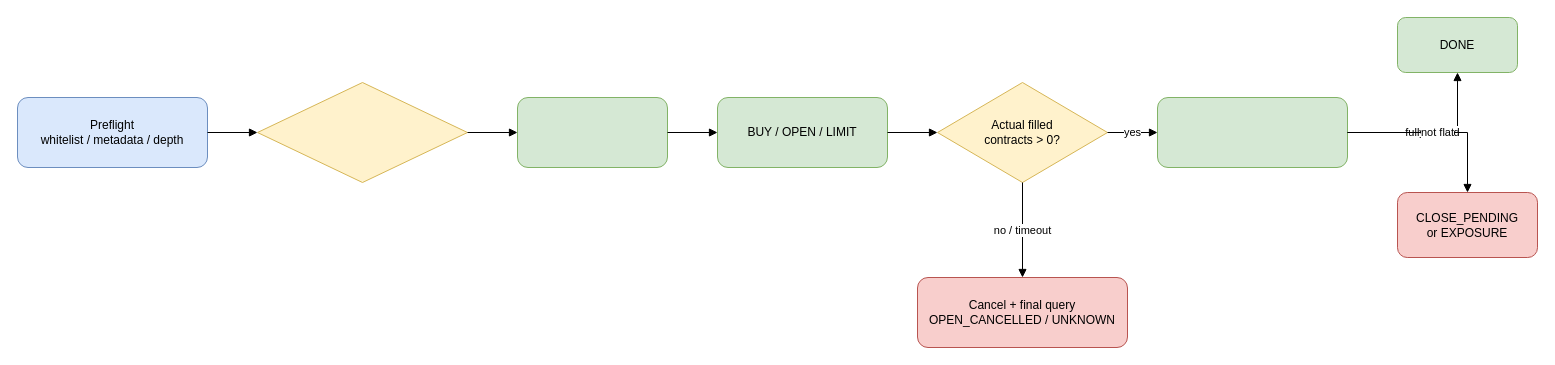
The diagram is 1555 pixels wide and 365 high, and some of its shapes have lost their labels. Here are the shapes that lost their labels. From the top down, the centre of each, then its label:
At (x=362, y=132): "Live gates + account leverage / position / margin".
At (x=592, y=132): "Persist INTENT".
At (x=1252, y=132): "SELL / CLOSE / LIMIT actual fill only".
